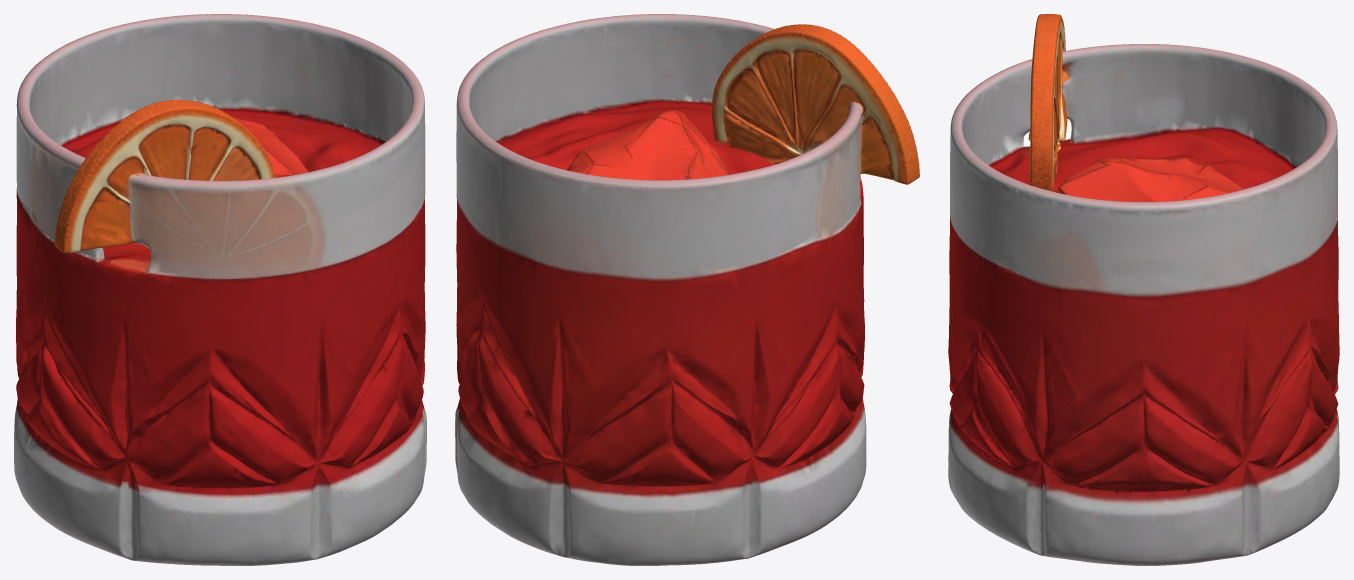
The model's file is negroni.glb.
3 views of the same model, side by side, from view 1: azimuth 30°, elevation 25°; view 2: azimuth 150°, elevation 25°; view 3: azimuth 270°, elevation 25° (orthographic). The views are drawn at different scales.
Visible parts, largest first — view 1: mesh_node; view 2: mesh_node; view 3: mesh_node.
Part boxes in pixels (<box>): mesh_node: <box>14,14,426,565</box>; mesh_node: <box>455,14,919,565</box>; mesh_node: <box>948,14,1339,565</box>.
Size of the model in its own units: 0.0828 by 0.09 by 0.076.
1 material, 1 textured.
